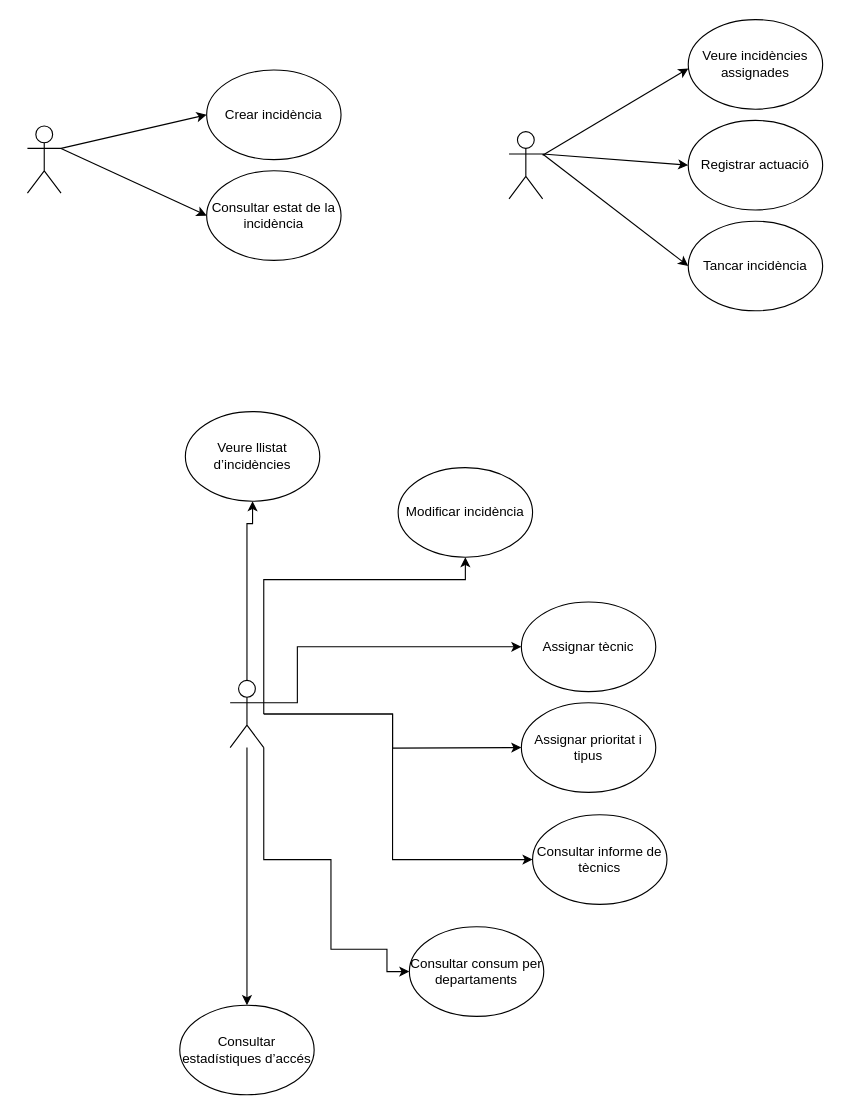
This 842x1114 diagram has some shape labels left out. The shapes that lost their labels are listed below. From the top down, each one's box as (x1, y1, x2, y2) in pixels, then its label:
(26, 125, 61, 193): USUARI
(508, 130, 543, 199): TÈCNIC
(229, 679, 264, 748): ADMINISTRADOR
